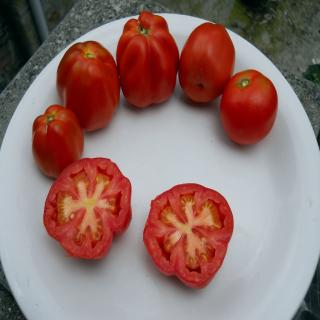tomato: (142, 180, 234, 292), (41, 157, 131, 258), (116, 10, 180, 107), (54, 41, 120, 131), (219, 67, 280, 145), (179, 23, 237, 105), (28, 100, 84, 178)
